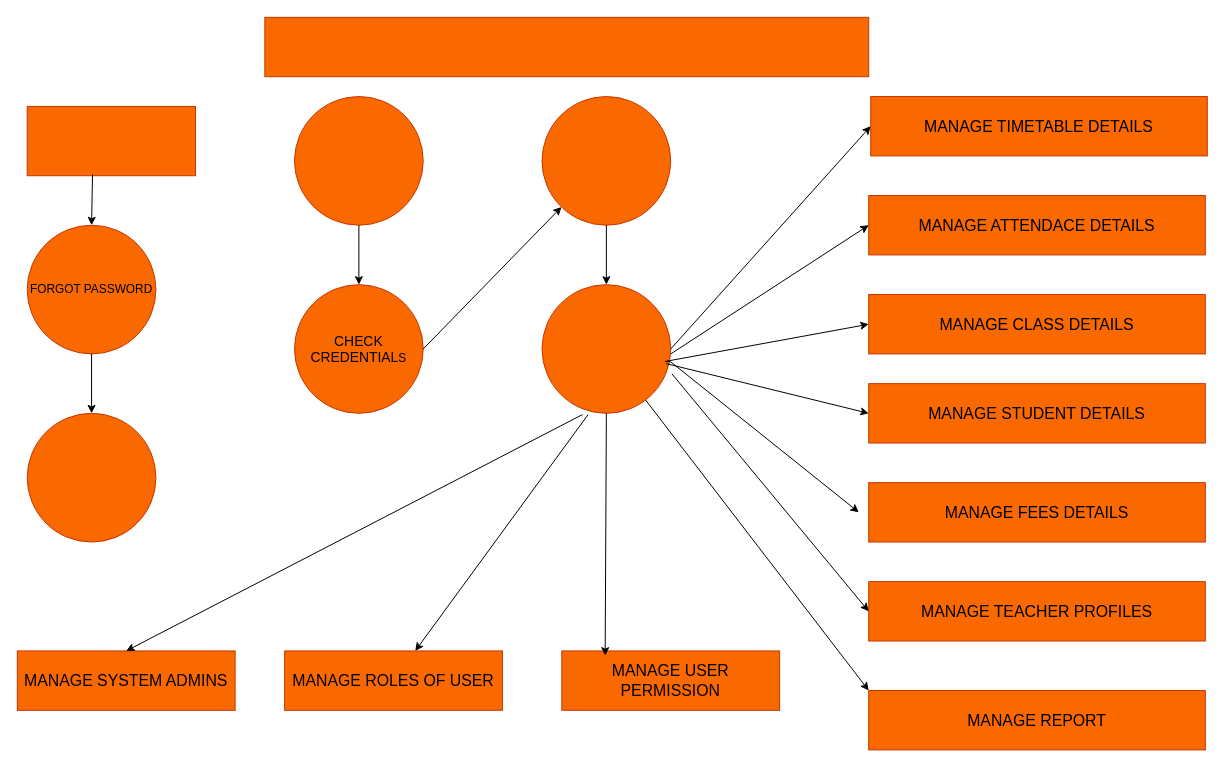
Image size: 1225x767. Some labels were removed from this diagram. The shapes that lost their labels are listed below. From the top down, each one's box as (x1, y1, x2, y2) in pixels, then its label:
(264, 16, 869, 77): STUDENT INFORMATION SYSTEM
(26, 105, 196, 176): ADMIN
(294, 96, 423, 225): LOGIN TO SYSTEM
(541, 96, 671, 225): CHECK ROLES OF ACCESS
(541, 284, 671, 413): MANAGE MODULES
(26, 412, 156, 542): SEND EMAIL TO USER
